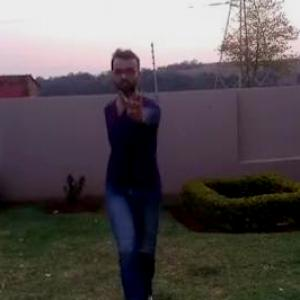takeoff-hand: (114, 84, 152, 125)
